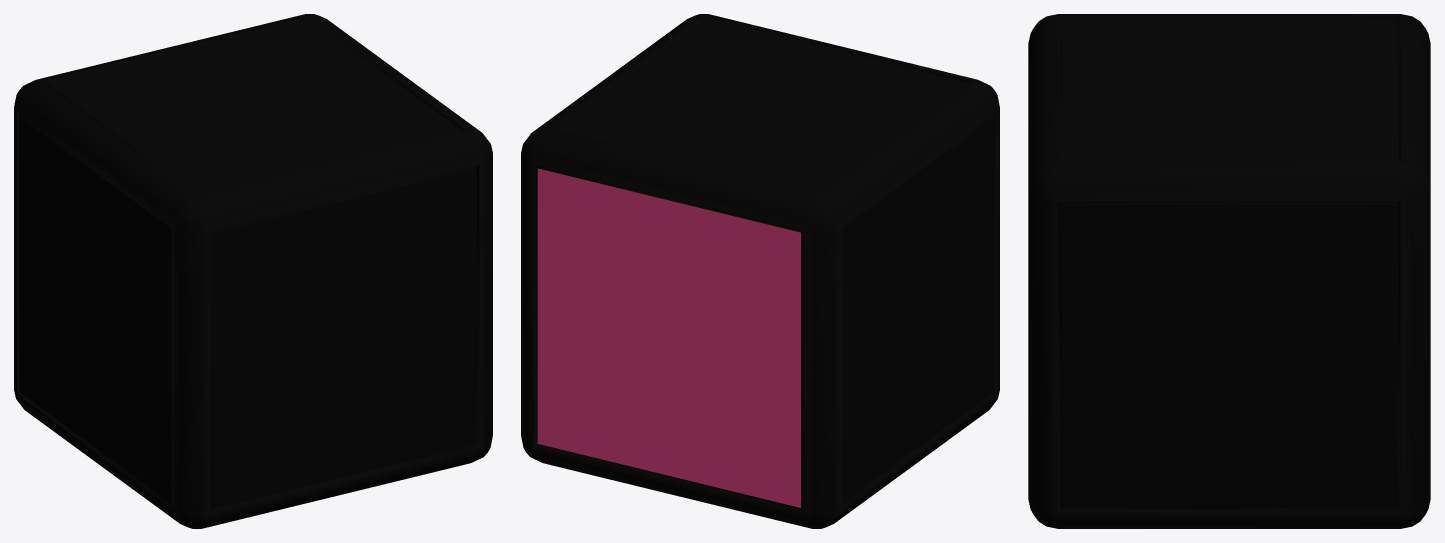
The model's file is singlecube18.gltf.
3 renders of one model, left to right at view 1: azimuth 30°, elevation 25°; view 2: azimuth 150°, elevation 25°; view 3: azimuth 270°, elevation 25°, orthographic. The views are drawn at different scales.
Parts seen in each view (by area): view 1: Cube.017; view 2: Cube.017; view 3: Cube.017.
Part boxes in pixels (bbox=[...]): Cube.017: bbox=[14, 14, 492, 528]; Cube.017: bbox=[521, 14, 999, 528]; Cube.017: bbox=[1028, 14, 1430, 528].
Bounding box in the file's own units: 2 × 2 × 2.
